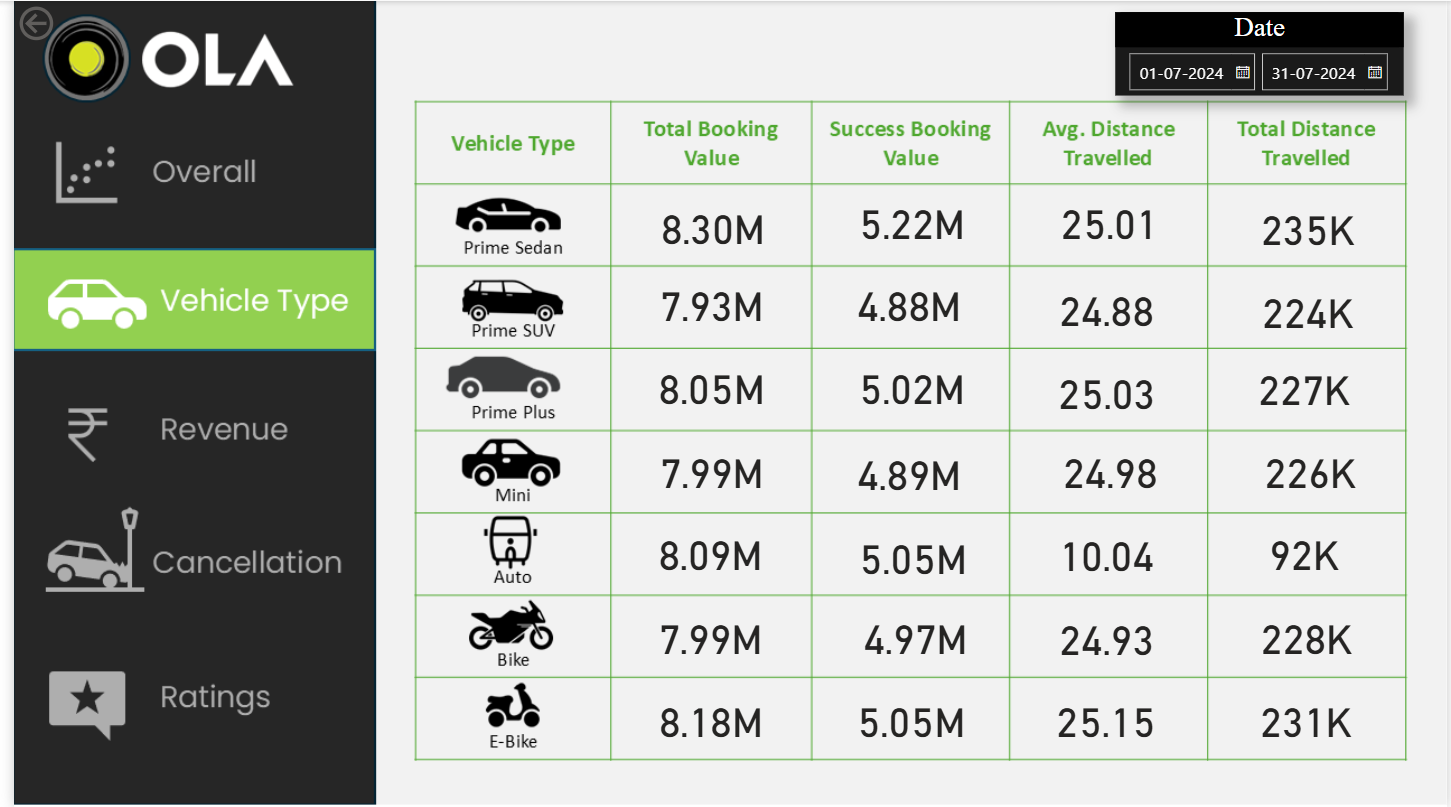

The page's visual inventory and layout, read from the dashboard file:
{"tool":"powerbi","page":{"name":"Vehicle Type","canvas":[1280,720],"ordinal":1},"visuals":[{"type":"actionButton","box":[0,337.2,325.6,93],"z":0},{"type":"actionButton","box":[0,446.5,325.6,96.5],"z":1000},{"type":"actionButton","box":[0,576.7,325.6,93],"z":2000},{"type":"actionButton","box":[0,219.8,325.6,88.4],"z":3000},{"type":"actionButton","box":[0,447.7,325.6,93],"z":4000},{"type":"card","fields":{"Values":["Sum(July (2).Booking_Value)"]},"box":[536,164,176.7,74.4],"z":5000},{"type":"card","fields":{"Values":["Sum(July (2).Booking_Value)"]},"box":[535.2,233.3,177,74.1],"z":6000},{"type":"card","fields":{"Values":["Sum(July (2).Booking_Value)"]},"box":[535.2,307.4,177,74.1],"z":7000},{"type":"card","fields":{"Values":["Sum(July (2).Booking_Value)"]},"box":[533.8,455.6,177,74.1],"z":8000},{"type":"card","fields":{"Values":["Sum(July (2).Booking_Value)"]},"box":[533.8,529.7,177,74.1],"z":9000},{"type":"card","fields":{"Values":["Sum(July (2).Booking_Value)"]},"box":[535.2,603.8,175.6,75.5],"z":10000},{"type":"card","fields":{"Values":["Sum(July (2).Booking_Value)"]},"box":[535.2,381.5,177,74.1],"z":11000},{"type":"card","fields":{"Values":["Sum(July (2).Booking_Value)"]},"box":[713.6,159.2,177,74.1],"z":12000},{"type":"card","fields":{"Values":["Sum(July (2).Booking_Value)"]},"box":[710.8,233.3,177,74.1],"z":13000},{"type":"card","fields":{"Values":["Sum(July (2).Booking_Value)"]},"box":[713.6,307.4,177,74.1],"z":14000},{"type":"card","fields":{"Values":["Sum(July (2).Booking_Value)"]},"box":[710.8,384.2,177,74.1],"z":15000},{"type":"card","fields":{"Values":["Sum(July (2).Booking_Value)"]},"box":[714.9,458.3,177,74.1],"z":16000},{"type":"card","fields":{"Values":["Sum(July (2).Booking_Value)"]},"box":[716.3,529.7,177,74.1],"z":17000},{"type":"card","fields":{"Values":["Sum(July (2).Booking_Value)"]},"box":[713.6,603.8,175.6,75.5],"z":18000},{"type":"card","fields":{"Values":["Avg(July (2).Ride_Distance)"]},"box":[889.2,159.2,177,74.1],"z":19000},{"type":"card","fields":{"Values":["Avg(July (2).Ride_Distance)"]},"box":[887.8,237.4,177,74.1],"z":20000},{"type":"card","fields":{"Values":["Avg(July (2).Ride_Distance)"]},"box":[887.8,311.5,177,74.1],"z":21000},{"type":"card","fields":{"Values":["Avg(July (2).Ride_Distance)"]},"box":[890.6,381.5,177,74.1],"z":22000},{"type":"actionButton","box":[0,0,100,40],"z":23000},{"type":"card","fields":{"Values":["Avg(July (2).Ride_Distance)"]},"box":[887.8,456.9,177,74.1],"z":24000},{"type":"card","fields":{"Values":["Avg(July (2).Ride_Distance)"]},"box":[887.8,531,177,74.1],"z":25000},{"type":"card","fields":{"Values":["Avg(July (2).Ride_Distance)"]},"box":[887.8,603.8,175.6,75.5],"z":26000},{"type":"card","fields":{"Values":["Sum(July (2).Ride_Distance)"]},"box":[1067.6,164.7,177,74.1],"z":27000},{"type":"card","fields":{"Values":["Sum(July (2).Ride_Distance)"]},"box":[1067.6,238.8,177,74.1],"z":28000},{"type":"card","fields":{"Values":["Sum(July (2).Ride_Distance)"]},"box":[1063.5,307.4,177,76.8],"z":29000},{"type":"card","fields":{"Values":["Sum(July (2).Ride_Distance)"]},"box":[1069,381.5,177,74.1],"z":30000},{"type":"card","fields":{"Values":["Sum(July (2).Ride_Distance)"]},"box":[1063.5,455.6,177,74.1],"z":31000},{"type":"card","fields":{"Values":["Sum(July (2).Ride_Distance)"]},"box":[1066.2,529.7,177,74.1],"z":32000},{"type":"card","fields":{"Values":["Sum(July (2).Ride_Distance)"]},"box":[1066.2,603.8,175.6,75.5],"z":33000},{"type":"slicer","title":"Date","fields":{"Values":["July (2).Date"]},"box":[988,1.4,258,74.1],"z":34000}]}

Visuals, with their boxes on the page's 1280x720 design canvas (x1, y1, x2, y2). These are canvas units, not pixel positions in the 1451x807 screenshot, which may show the page scaled, cropped or inside an application window:
actionButton: <region>0, 337, 326, 430</region>
actionButton: <region>0, 446, 326, 543</region>
actionButton: <region>0, 577, 326, 670</region>
actionButton: <region>0, 220, 326, 308</region>
actionButton: <region>0, 448, 326, 541</region>
card - Sum(July (2).Booking_Value): <region>536, 164, 713, 238</region>
card - Sum(July (2).Booking_Value): <region>535, 233, 712, 307</region>
card - Sum(July (2).Booking_Value): <region>535, 307, 712, 382</region>
card - Sum(July (2).Booking_Value): <region>534, 456, 711, 530</region>
card - Sum(July (2).Booking_Value): <region>534, 530, 711, 604</region>
card - Sum(July (2).Booking_Value): <region>535, 604, 711, 679</region>
card - Sum(July (2).Booking_Value): <region>535, 382, 712, 456</region>
card - Sum(July (2).Booking_Value): <region>714, 159, 891, 233</region>
card - Sum(July (2).Booking_Value): <region>711, 233, 888, 307</region>
card - Sum(July (2).Booking_Value): <region>714, 307, 891, 382</region>
card - Sum(July (2).Booking_Value): <region>711, 384, 888, 458</region>
card - Sum(July (2).Booking_Value): <region>715, 458, 892, 532</region>
card - Sum(July (2).Booking_Value): <region>716, 530, 893, 604</region>
card - Sum(July (2).Booking_Value): <region>714, 604, 889, 679</region>
card - Avg(July (2).Ride_Distance): <region>889, 159, 1066, 233</region>
card - Avg(July (2).Ride_Distance): <region>888, 237, 1065, 312</region>
card - Avg(July (2).Ride_Distance): <region>888, 312, 1065, 386</region>
card - Avg(July (2).Ride_Distance): <region>891, 382, 1068, 456</region>
actionButton: <region>0, 0, 100, 40</region>
card - Avg(July (2).Ride_Distance): <region>888, 457, 1065, 531</region>
card - Avg(July (2).Ride_Distance): <region>888, 531, 1065, 605</region>
card - Avg(July (2).Ride_Distance): <region>888, 604, 1063, 679</region>
card - Sum(July (2).Ride_Distance): <region>1068, 165, 1245, 239</region>
card - Sum(July (2).Ride_Distance): <region>1068, 239, 1245, 313</region>
card - Sum(July (2).Ride_Distance): <region>1064, 307, 1240, 384</region>
card - Sum(July (2).Ride_Distance): <region>1069, 382, 1246, 456</region>
card - Sum(July (2).Ride_Distance): <region>1064, 456, 1240, 530</region>
card - Sum(July (2).Ride_Distance): <region>1066, 530, 1243, 604</region>
card - Sum(July (2).Ride_Distance): <region>1066, 604, 1242, 679</region>
"Date" slicer: <region>988, 1, 1246, 76</region>
